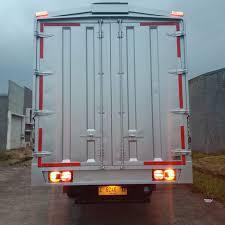truck: (29, 1, 199, 195)
